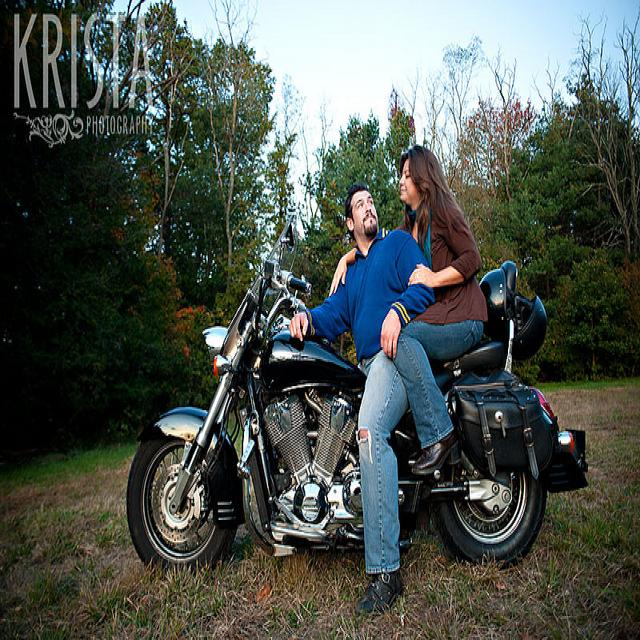motor: (123, 202, 364, 571), (395, 322, 588, 571)
